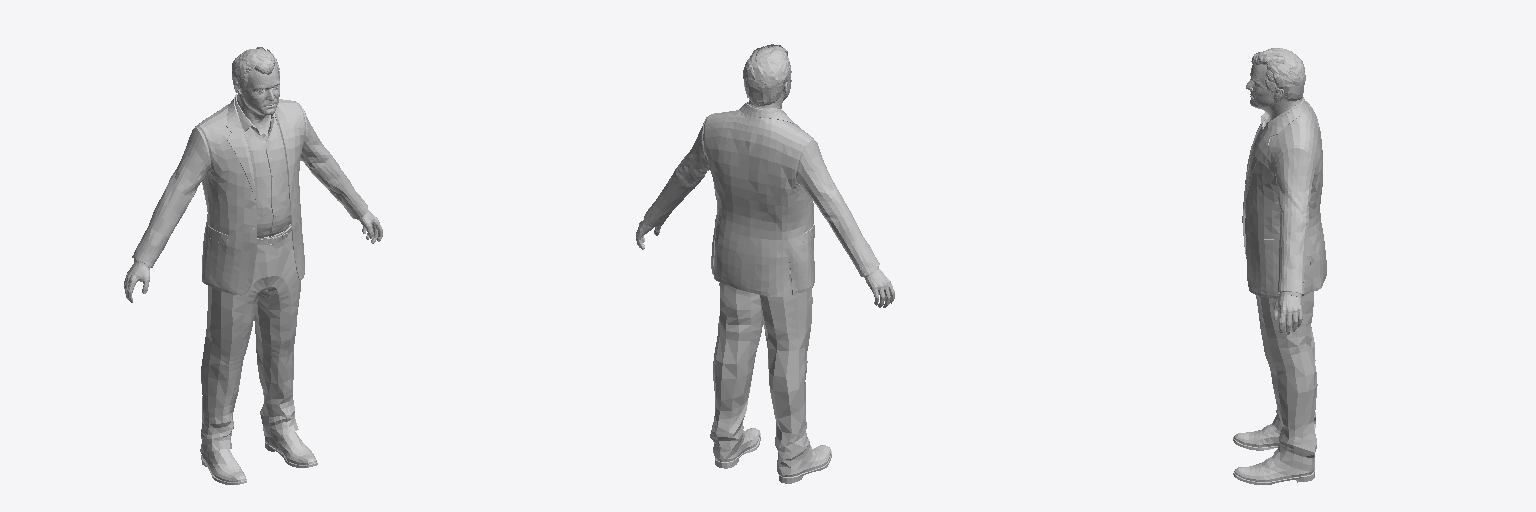
Rendered from michael.obj.
The picture shows the model from 3 angles: view 1: azimuth 30°, elevation 25°; view 2: azimuth 150°, elevation 25°; view 3: azimuth 270°, elevation 25°; orthographic projection.
Visible parts, largest first — view 1: default007, default004, default006, default002, default001000, default, default003; view 2: default007, default004, default, default002, default003; view 3: default007, default004, default002, default, default001000, default003.
Part boxes in pixels (x1,y1,x2,y2): default007: (132, 94, 367, 295); default004: (200, 224, 300, 452); default006: (235, 94, 290, 237); default002: (201, 431, 317, 484); default001000: (234, 63, 279, 136); default: (232, 47, 279, 92); default003: (124, 210, 382, 302); default007: (644, 103, 879, 296); default004: (710, 263, 812, 475); default: (743, 44, 790, 105); default002: (715, 428, 831, 483); default003: (636, 220, 894, 307); default007: (1242, 97, 1326, 298); default004: (1256, 292, 1317, 471); default002: (1233, 423, 1314, 484); default: (1251, 48, 1305, 100); default001000: (1246, 64, 1300, 120); default003: (1273, 295, 1302, 334).
Bounding box in the file's own units: 2.72 × 4.22 × 0.8688.